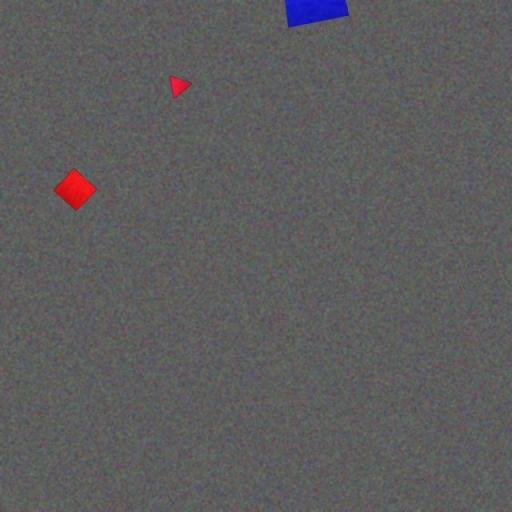RED_SQUARE: (52, 167, 98, 211)
